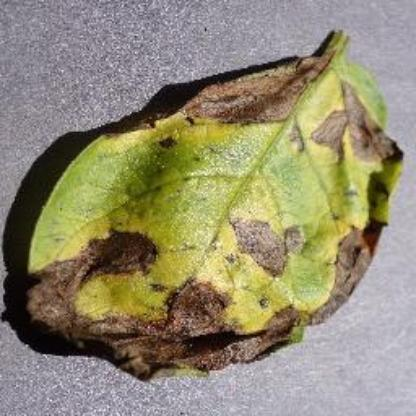Early-Blight: (25, 26, 405, 382)
